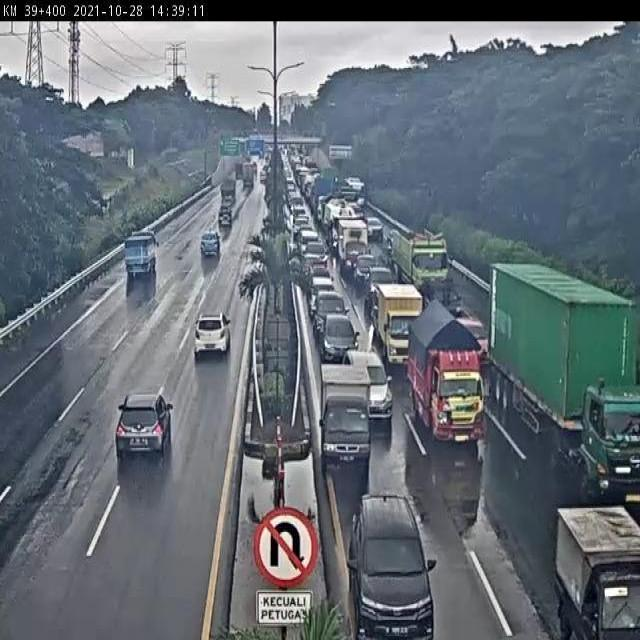big truck: (483, 233, 640, 524), (384, 228, 452, 301)
car: (335, 484, 445, 635), (98, 371, 188, 476), (183, 296, 244, 373), (344, 341, 394, 424), (316, 308, 361, 365), (454, 310, 491, 370), (310, 288, 351, 341), (197, 226, 225, 262)
small truck: (529, 470, 640, 640), (395, 292, 497, 453), (311, 356, 375, 481), (371, 280, 429, 369), (119, 231, 160, 289)
